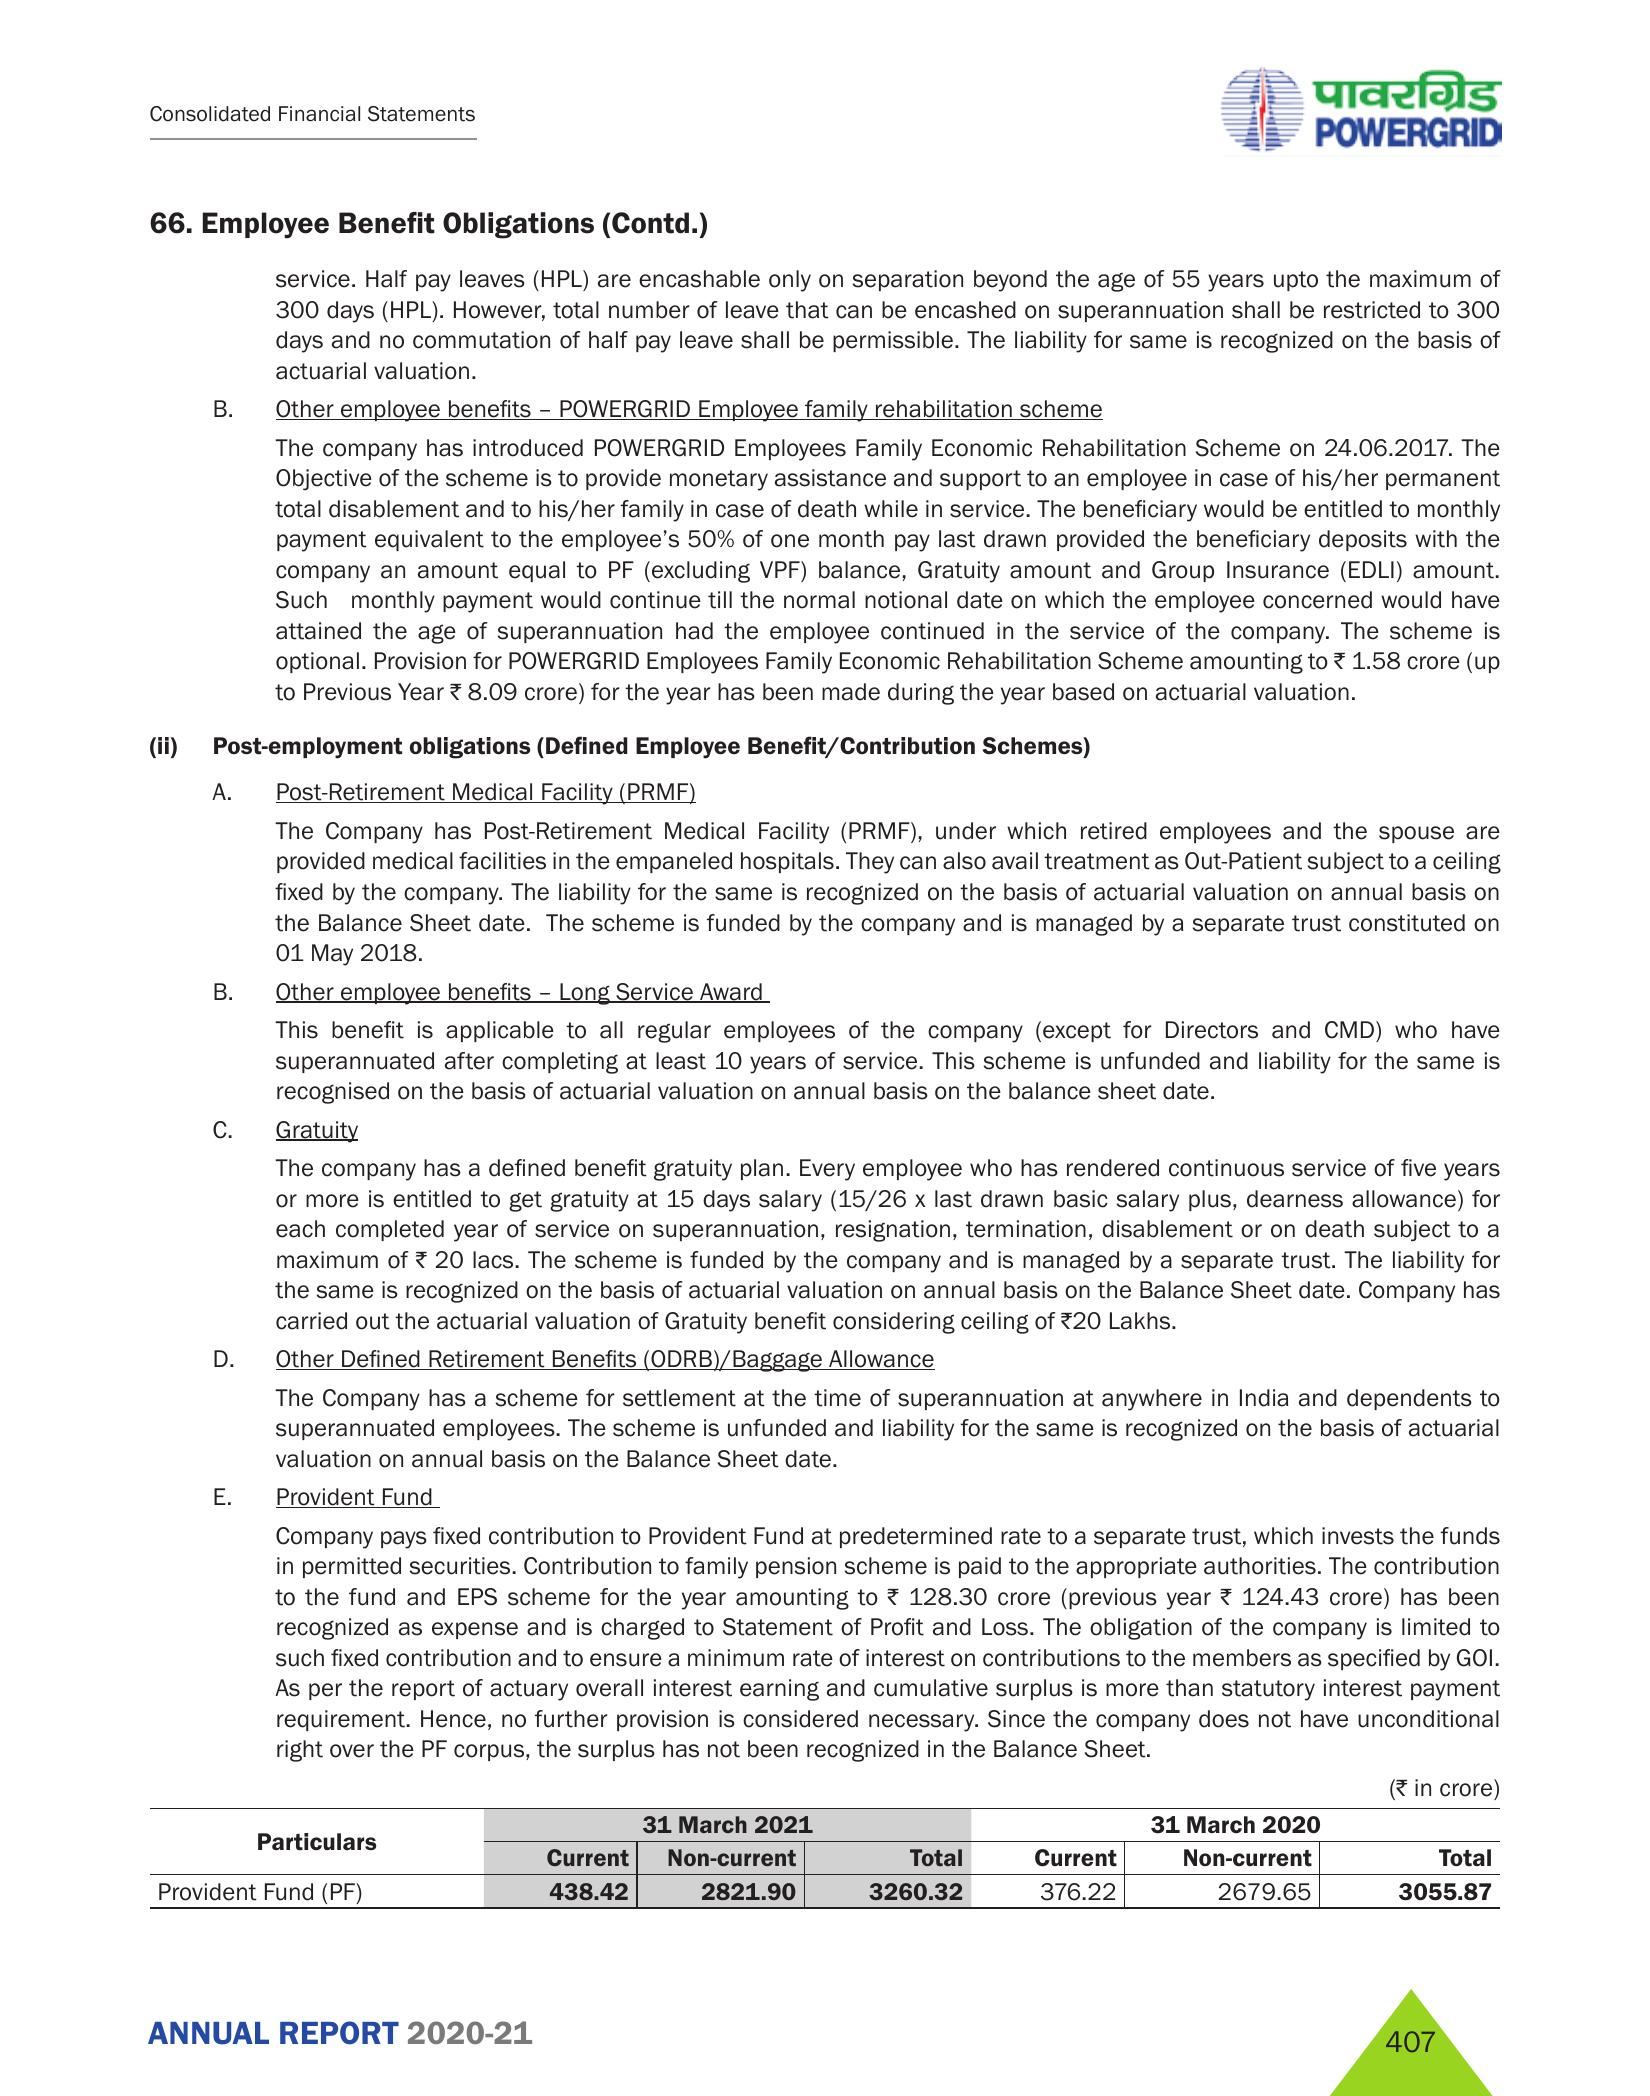Footer: (0, 1982, 1650, 2096)
Header: (0, 0, 1650, 175)
Table: (99, 1802, 1533, 1916)
